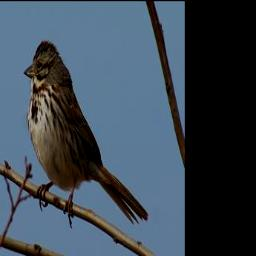Sparrow: (23, 39, 150, 227)
